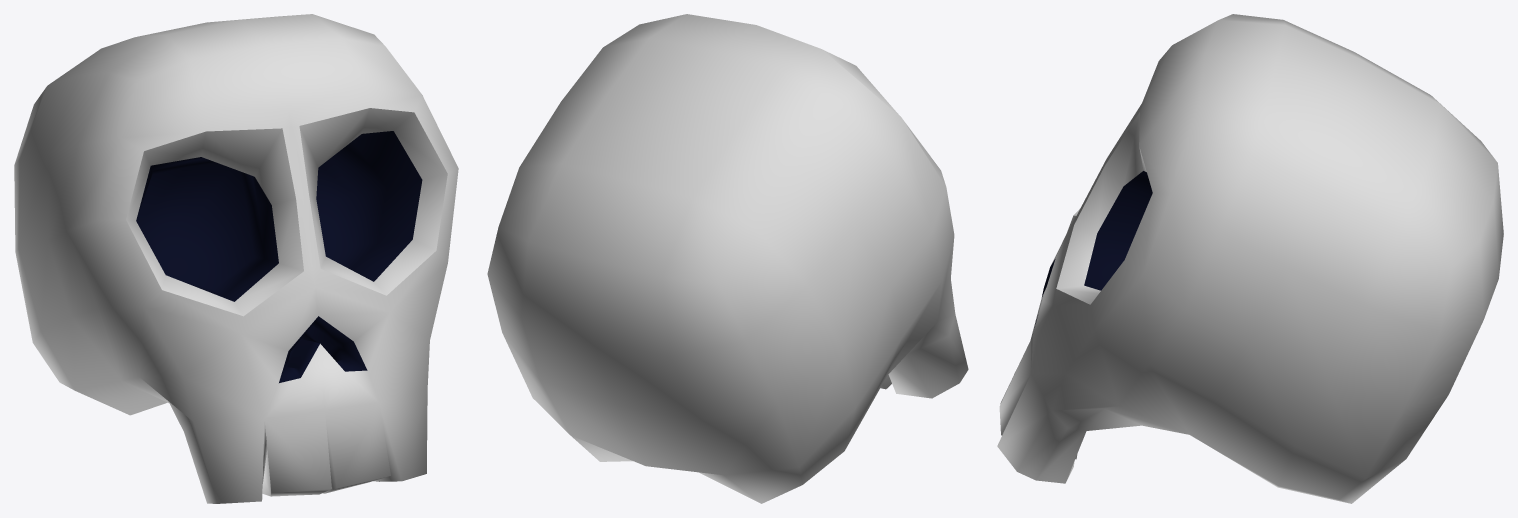
Rendered from Skull 2a.glb.
3 views of the same model, side by side, from view 1: azimuth 30°, elevation 25°; view 2: azimuth 150°, elevation 25°; view 3: azimuth 270°, elevation 25° (orthographic). The views are drawn at different scales.
Parts seen in each view (by area): view 1: Skull, Skull.002; view 2: Skull; view 3: Skull, Skull.002.
Part boxes in pixels (<box>): Skull: <box>14,14,458,503</box>; Skull.002: <box>126,108,447,316</box>; Skull: <box>487,14,968,503</box>; Skull: <box>997,14,1503,503</box>; Skull.002: <box>1056,112,1152,304</box>.
Size of the model in its own units: 9.74 by 10.27 by 11.54.
